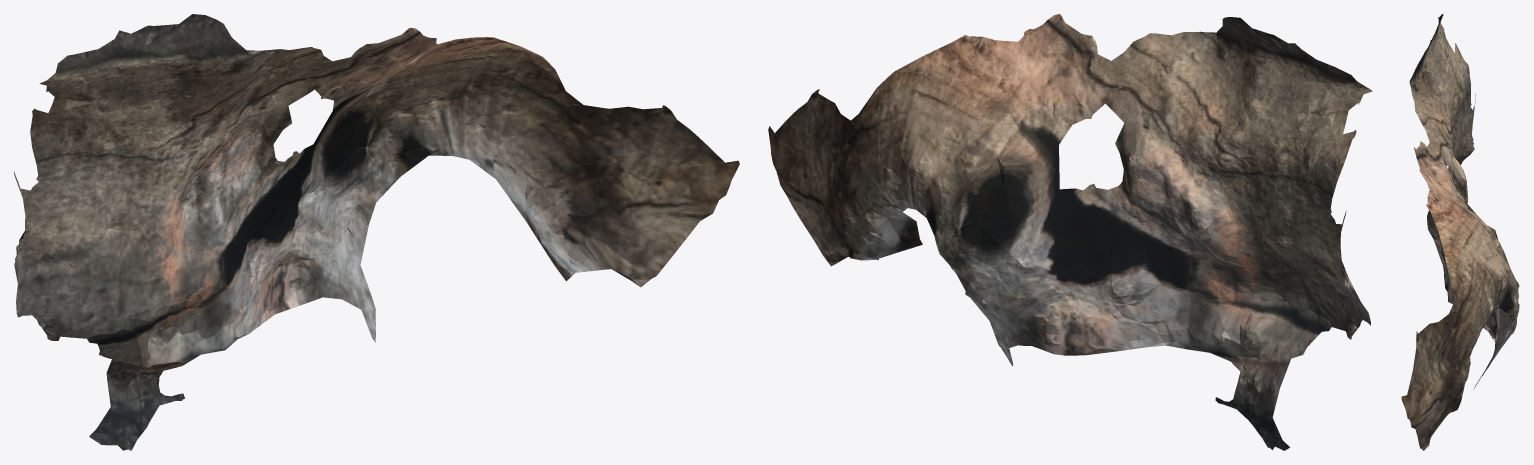
3 views of the same model, side by side, from view 1: azimuth 30°, elevation 25°; view 2: azimuth 150°, elevation 25°; view 3: azimuth 270°, elevation 25° (orthographic). The views are drawn at different scales.
Parts seen in each view (by area): view 1: TexturedMesh; view 2: TexturedMesh; view 3: TexturedMesh.
Part boxes in pixels (box(x1,y1,x2,y2)): TexturedMesh: box(14, 14, 739, 450); TexturedMesh: box(768, 14, 1372, 450); TexturedMesh: box(1401, 14, 1519, 450).
Bounding box in the file's own units: 2.31 × 1.41 × 0.4981.
1 material, 1 textured.
